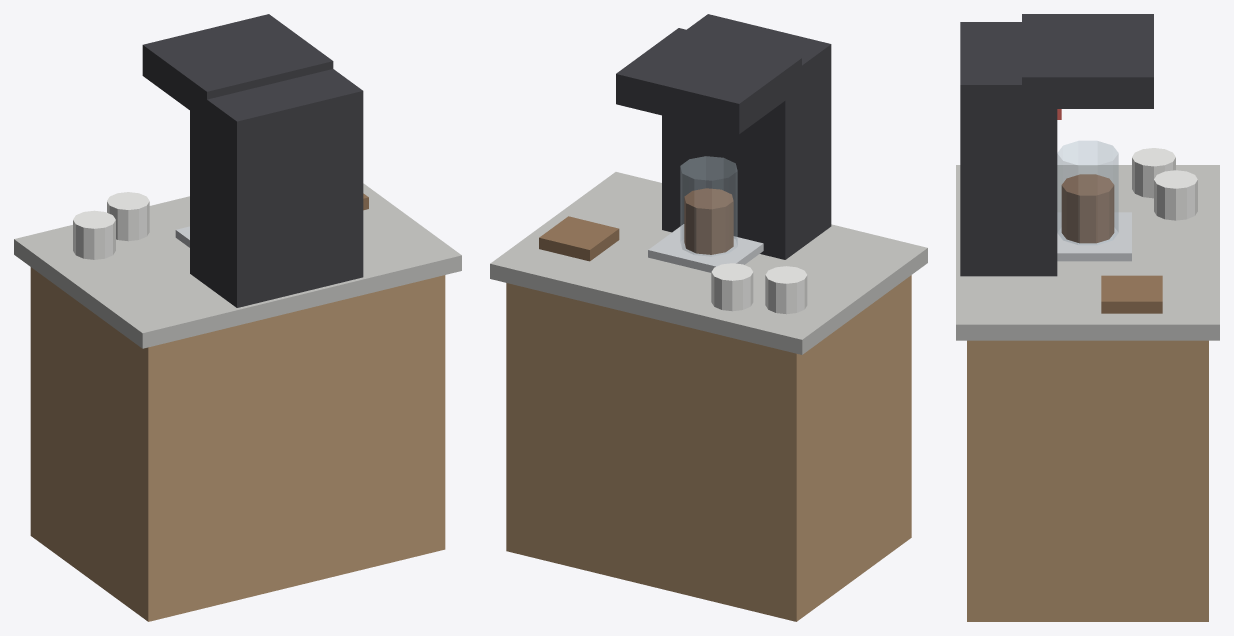
The model's file is coffee_maker.glb.
3 renders of one model, left to right at view 1: azimuth 30°, elevation 25°; view 2: azimuth 150°, elevation 25°; view 3: azimuth 270°, elevation 25°, orthographic. The views are drawn at different scales.
Visible parts, largest first — view 1: coffee_maker; view 2: coffee_maker; view 3: coffee_maker.
Part boxes in pixels (<box>): coffee_maker: <box>14,14,461,621</box>; coffee_maker: <box>490,14,927,621</box>; coffee_maker: <box>956,14,1219,621</box>.
Bounding box in the file's own units: 0.86 × 1.26 × 0.6.
